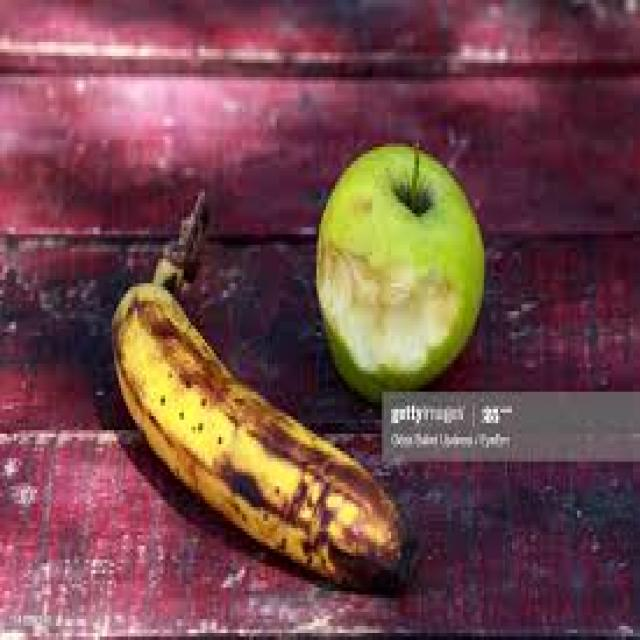organic waste: (107, 185, 412, 588), (312, 136, 482, 402)
